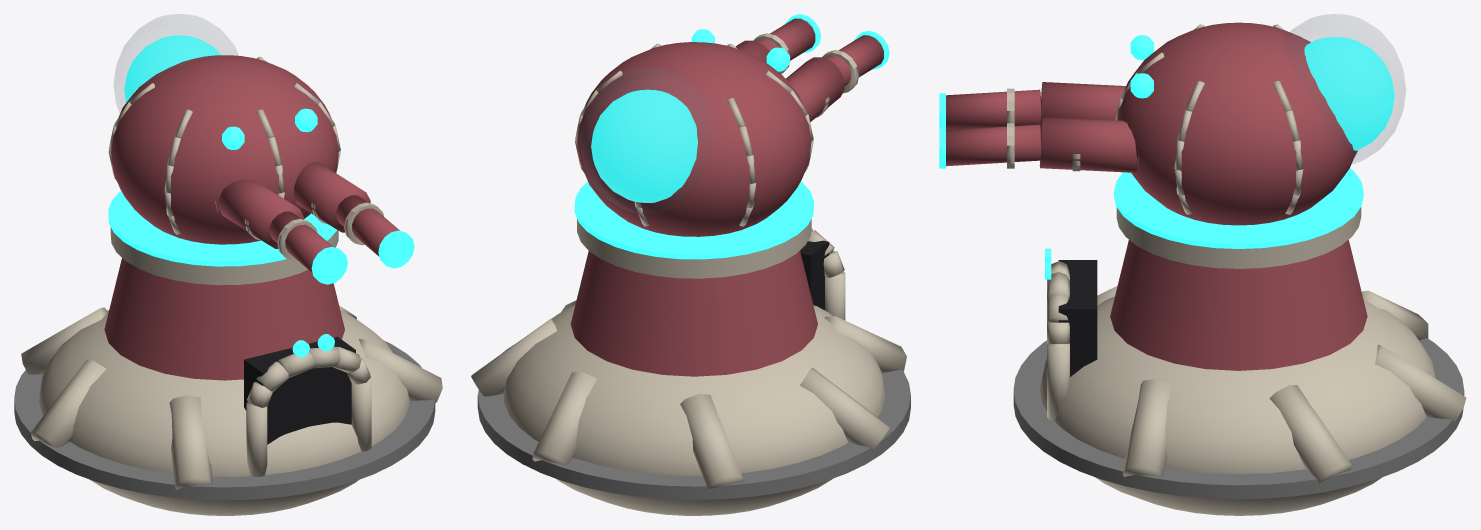
Rendered from GooGun_T2_Spitter.glb.
3 views of the same model, side by side, from view 1: azimuth 30°, elevation 25°; view 2: azimuth 150°, elevation 25°; view 3: azimuth 270°, elevation 25° (orthographic). The views are drawn at different scales.
Parts seen in each view (by area): view 1: GooGun_T2_Spitter_Base, GooGun_T2_Spitter_Turret; view 2: GooGun_T2_Spitter_Base, GooGun_T2_Spitter_Turret; view 3: GooGun_T2_Spitter_Base, GooGun_T2_Spitter_Turret.
Part boxes in pixels (box(x1,y1,x2,y2)): GooGun_T2_Spitter_Base: box(14, 190, 442, 515); GooGun_T2_Spitter_Turret: box(108, 14, 414, 284); GooGun_T2_Spitter_Base: box(471, 181, 910, 515); GooGun_T2_Spitter_Turret: box(575, 14, 889, 236); GooGun_T2_Spitter_Base: box(1013, 168, 1466, 515); GooGun_T2_Spitter_Turret: box(939, 14, 1405, 225).
Size of the model in its own units: 3.56 by 3.97 by 4.09.
